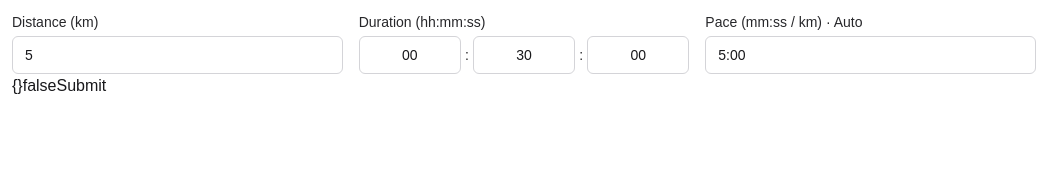
Scenario: recalculates the derived metric and tracks changed fields
Step 1. Replace the text in the field labelled "Distance (km)" with "10" → (177, 55), box [12,36,343,74]
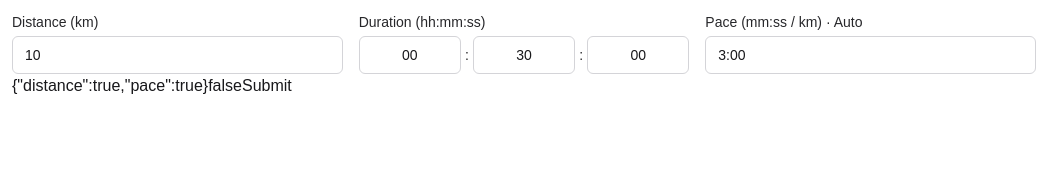
Result: the field labelled "Pace (mm:ss / km) · Auto" holds "3:00" at [705,36,1036,74]
Result: the text with test id "dirty-fields" shows "\"distance\":true" at [12,77,208,94]
Result: the text with test id "dirty-fields" shows "\"pace\":true" at [12,77,208,94]
